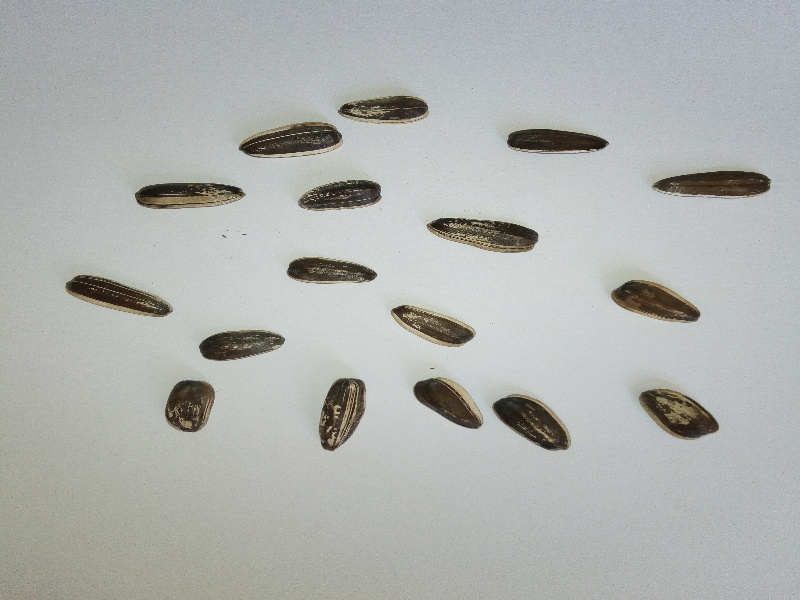w: (60, 268, 183, 328), (420, 209, 547, 262), (647, 159, 774, 209), (403, 370, 490, 438), (601, 274, 708, 328), (632, 384, 722, 445), (154, 369, 226, 444), (315, 368, 372, 462), (237, 117, 346, 166), (378, 300, 476, 352), (129, 174, 247, 217), (501, 121, 611, 163), (194, 320, 290, 365), (331, 87, 436, 127), (278, 251, 381, 291)
